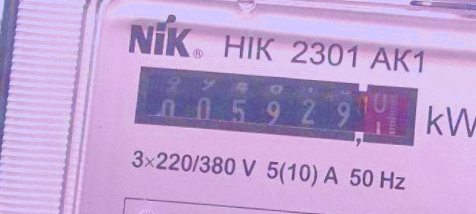0: (193, 93, 213, 122), (156, 93, 178, 117), (369, 91, 390, 115)
2: (296, 94, 317, 128)
5: (228, 95, 247, 124)
9: (260, 96, 283, 127), (332, 97, 353, 130), (162, 74, 181, 93)
screen: (127, 60, 426, 156)
